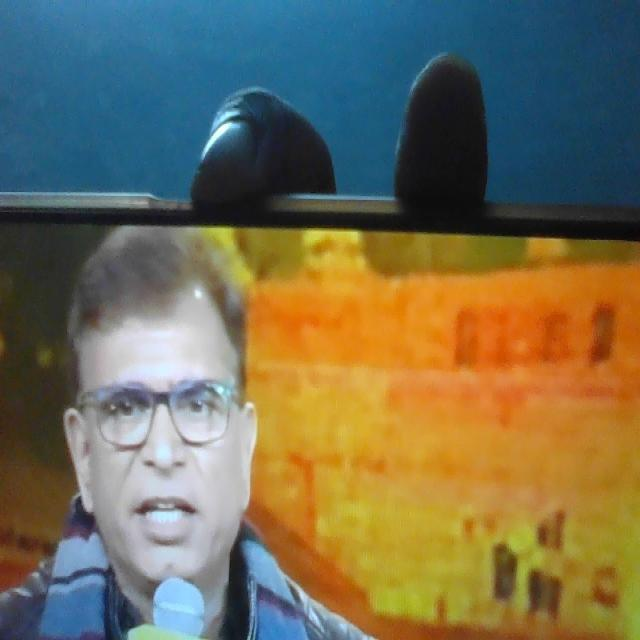fake: (57, 221, 261, 607)
